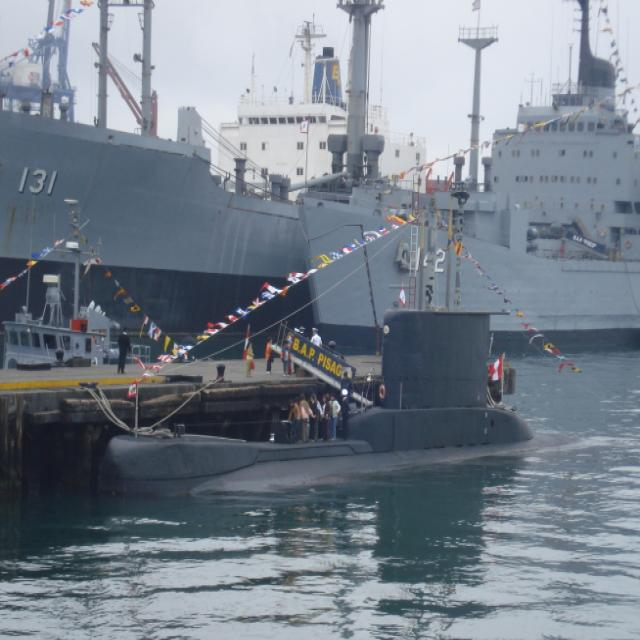submarine: (111, 304, 526, 520)
